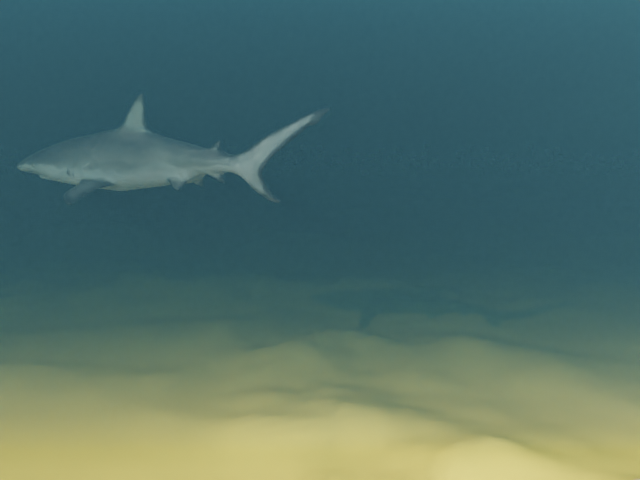Carribean Shark.001: (16, 93, 330, 204)
